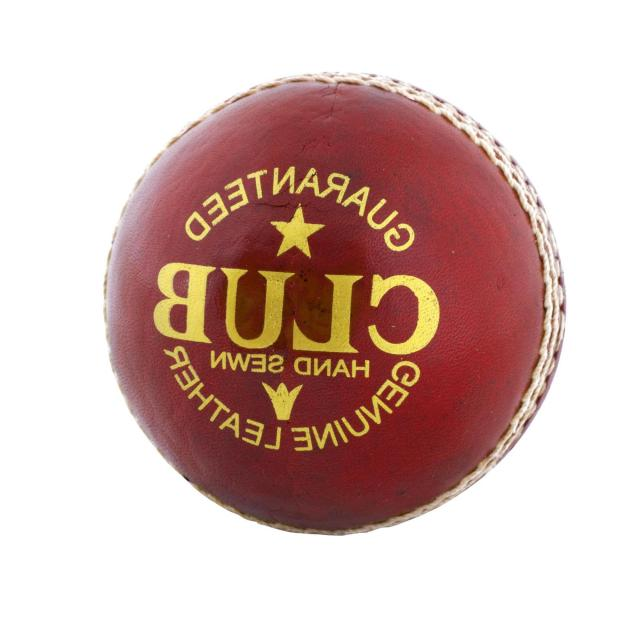ball: (102, 74, 567, 538)
